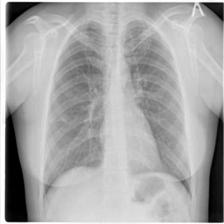tuberculosis: (39, 16, 198, 206)
